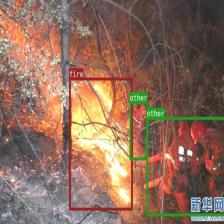fire: (69, 77, 132, 210)
